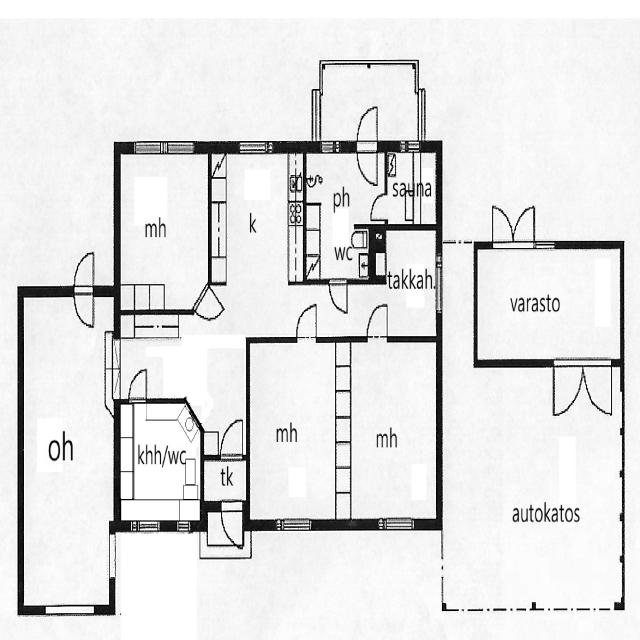door: (489, 201, 540, 247), (354, 104, 381, 186), (71, 247, 96, 331), (218, 414, 246, 458), (220, 500, 244, 549), (294, 300, 320, 343), (366, 301, 389, 340), (328, 277, 349, 315), (369, 191, 388, 221)
window: (129, 134, 202, 159), (374, 512, 417, 536), (272, 513, 315, 535), (44, 601, 99, 618), (434, 246, 446, 319), (235, 136, 272, 158), (107, 530, 120, 582), (317, 136, 346, 157), (194, 284, 211, 318), (135, 517, 162, 535), (399, 138, 423, 155), (174, 516, 194, 535), (192, 401, 204, 430)
zone: (21, 291, 114, 606), (336, 337, 439, 526), (474, 243, 623, 365), (249, 337, 341, 525), (119, 149, 211, 310), (208, 148, 306, 293), (117, 397, 197, 523), (306, 148, 385, 230), (374, 230, 439, 316), (386, 147, 438, 225), (550, 359, 618, 416), (200, 455, 249, 503), (295, 301, 319, 342), (126, 367, 150, 402)
